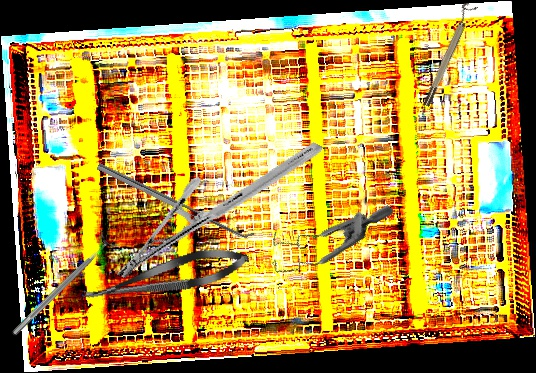Fixation Ring: (5, 229, 119, 342), (417, 1, 478, 108)
Micro Scissor: (78, 240, 252, 313)
Needle Holder: (116, 89, 323, 332)
Spatula Surgical: (96, 156, 256, 244)
Speculum: (256, 161, 395, 307)
